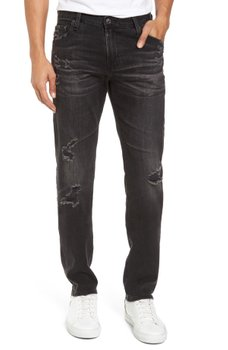Jeans: (44, 10, 171, 302)
